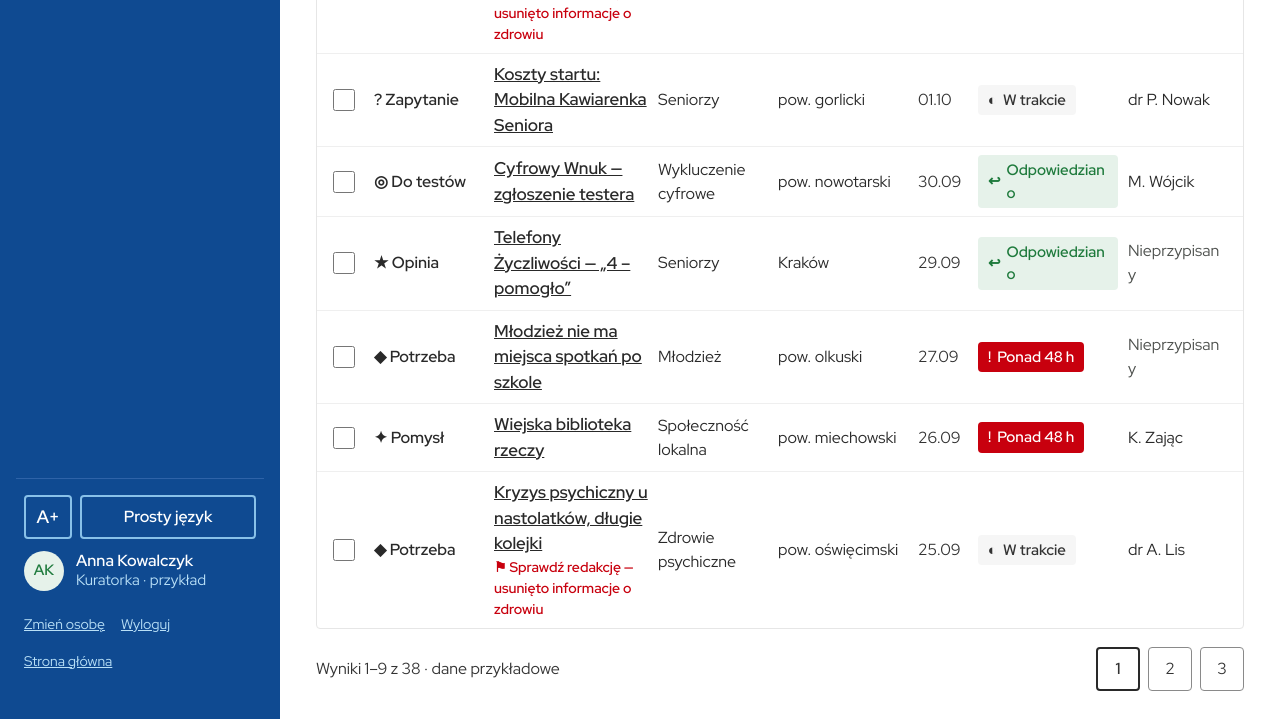
Test: shell › returns to the start page when signing out of the ROPS panel
The width and height of the screenshot is (1280, 719).
(page scrolled)
Click the button "Wyloguj". click: point(145, 624)
box: [121,602,170,646]
(page scrolled)
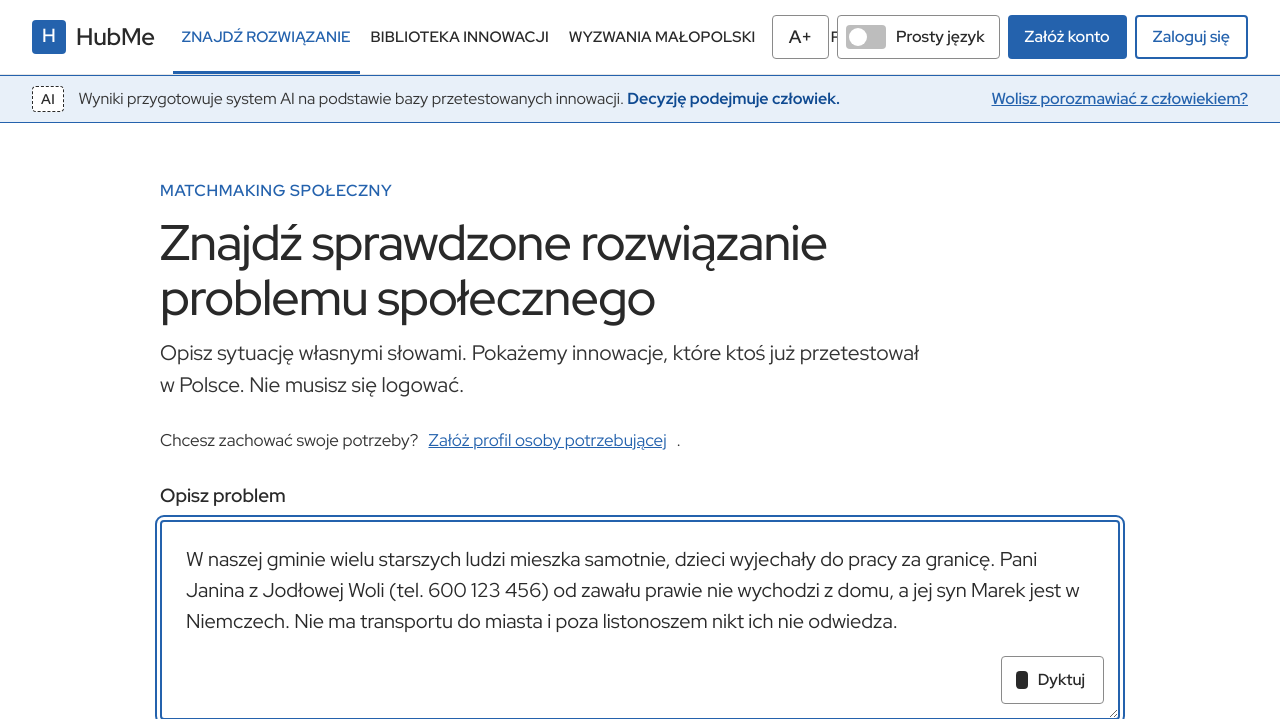
expect the button "Zaloguj się" is shown: met, box [1135,14,1248,58]
